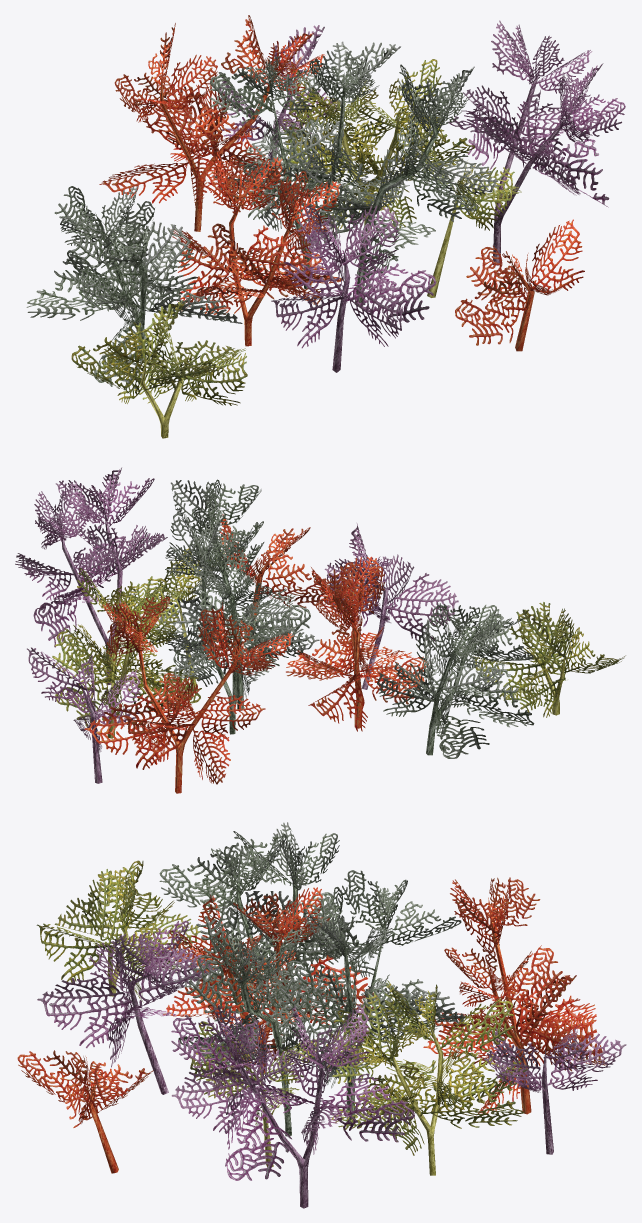
Rendered from fan_coral_cluster_low.glb.
3 views of the same model, one above another, from view 1: azimuth 30°, elevation 25°; view 2: azimuth 150°, elevation 25°; view 3: azimuth 270°, elevation 25° (orthographic). The views are drawn at different scales.
Parts seen in each view (by area): view 1: LOD0; view 2: LOD0; view 3: LOD0.
Boxes of the visible parts, box(x1,y1,x2,y2) form: LOD0: box(26, 15, 625, 438); LOD0: box(15, 467, 625, 793); LOD0: box(17, 822, 626, 1208).
Bounding box in the file's own units: 0.1752 × 0.0652 × 0.1474.
Materials: 5 (5 with a texture image).
